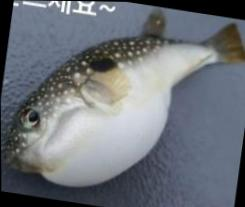fish: (5, 8, 245, 184)
